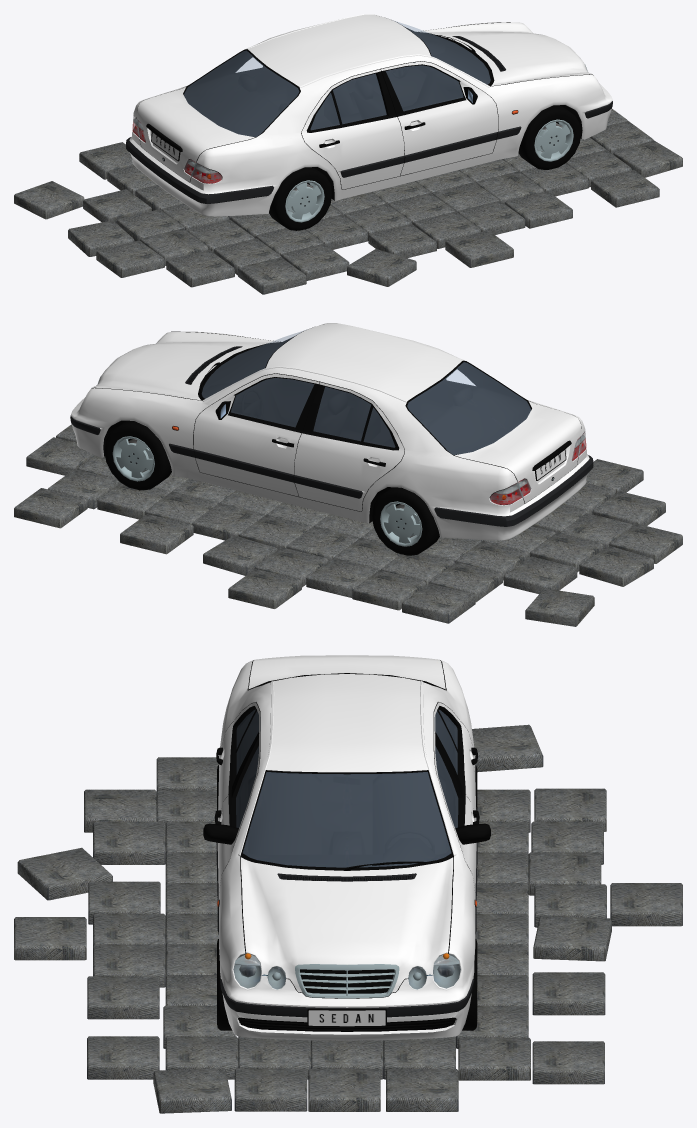
The model's file is executive_sedan.glb.
3 views of the same model, one above another, from view 1: azimuth 30°, elevation 25°; view 2: azimuth 150°, elevation 25°; view 3: azimuth 270°, elevation 25° (orthographic). The views are drawn at different scales.
Visible parts, largest first — view 1: node_TILES_-996_7, node_SEDAN_17556_8, node_matte_plastic_-1044_18, node_WINDOWS_-1052_20, node_FR_tyre_-1108_5, node_RR_tyre_-1112_15, node_FR_WHEEL_-1074_1, node_RR_WHEEL_-1056_21, node_R_LAMPS_-1046_19; view 2: node_SEDAN_17556_8, node_TILES_-996_7, node_matte_plastic_-1044_18, node_WINDOWS_-1052_20, node_FL_tyre_-1088_14, node_RL_tyre_-1092_9, node_FL_WHEEL_-1070_13, node_RL_WHEEL_-1066_10, node_R_LAMPS_-1046_19; view 3: node_TILES_-996_7, node_SEDAN_17556_8, node_matte_plastic_-1044_18, node_WINDOWS_-1052_20, node_F_LAMPS_-1038_4.
Boxes of the visible parts, x1=… form: node_TILES_-996_7: x1=14, y1=108, x2=682, y2=294; node_SEDAN_17556_8: x1=129, y1=14, x2=612, y2=216; node_matte_plastic_-1044_18: x1=126, y1=21, x2=612, y2=203; node_WINDOWS_-1052_20: x1=184, y1=21, x2=490, y2=136; node_FR_tyre_-1108_5: x1=518, y1=105, x2=581, y2=169; node_RR_tyre_-1112_15: x1=269, y1=167, x2=332, y2=230; node_FR_WHEEL_-1074_1: x1=534, y1=119, x2=573, y2=161; node_RR_WHEEL_-1056_21: x1=285, y1=180, x2=324, y2=222; node_R_LAMPS_-1046_19: x1=132, y1=115, x2=222, y2=183; node_SEDAN_17556_8: x1=70, y1=323, x2=589, y2=540; node_TILES_-996_7: x1=14, y1=424, x2=682, y2=626; node_matte_plastic_-1044_18: x1=70, y1=327, x2=593, y2=526; node_WINDOWS_-1052_20: x1=202, y1=330, x2=530, y2=454; node_FL_tyre_-1088_14: x1=104, y1=420, x2=171, y2=490; node_RL_tyre_-1092_9: x1=372, y1=487, x2=439, y2=555; node_FL_WHEEL_-1070_13: x1=112, y1=436, x2=154, y2=481; node_RL_WHEEL_-1066_10: x1=380, y1=501, x2=422, y2=546; node_R_LAMPS_-1046_19: x1=490, y1=432, x2=586, y2=504; node_TILES_-996_7: x1=14, y1=724, x2=682, y2=1113; node_SEDAN_17556_8: x1=217, y1=655, x2=476, y2=1040; node_matte_plastic_-1044_18: x1=203, y1=660, x2=490, y2=1031; node_WINDOWS_-1052_20: x1=236, y1=709, x2=457, y2=867; node_F_LAMPS_-1038_4: x1=233, y1=953, x2=460, y2=988.
Bounding box in the file's own units: 6.14 × 1.55 × 4.61.
5 materials, 5 textured.
